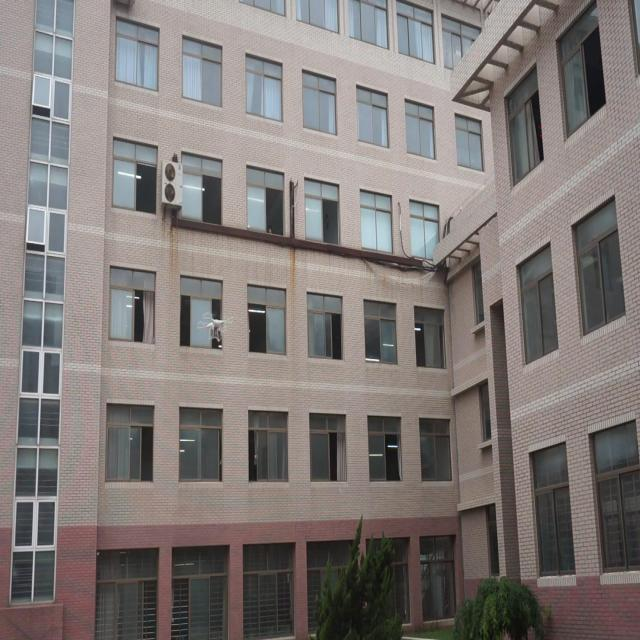UAV: (197, 312, 234, 342)
